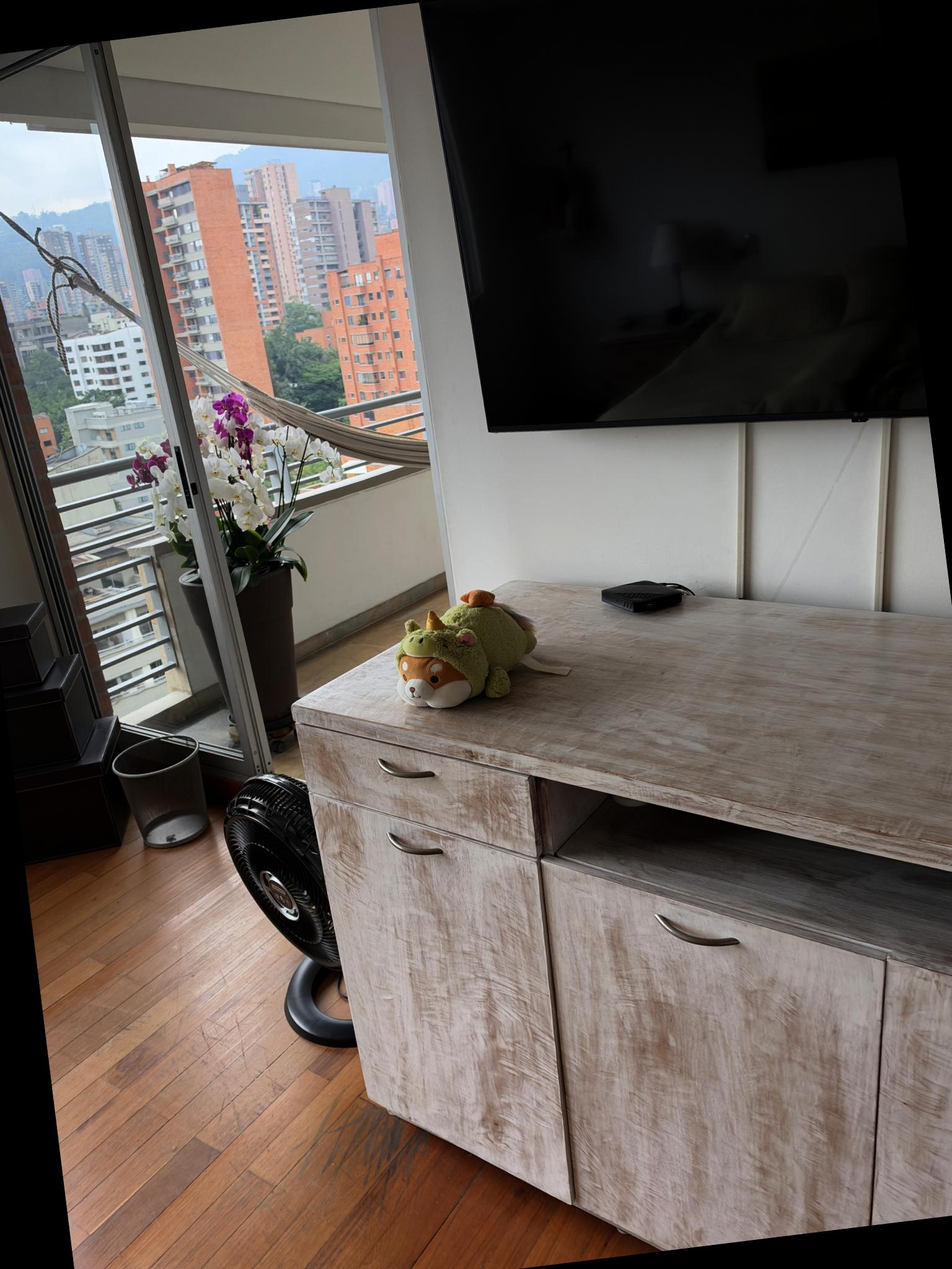peluche_martin: (385, 582, 545, 714)
